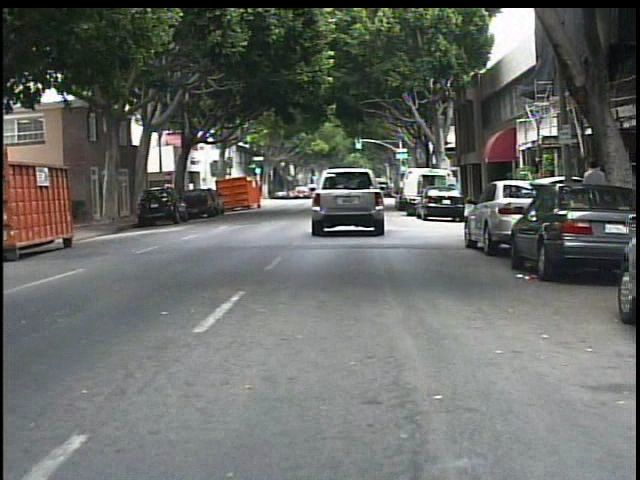person: (577, 157, 610, 240)
